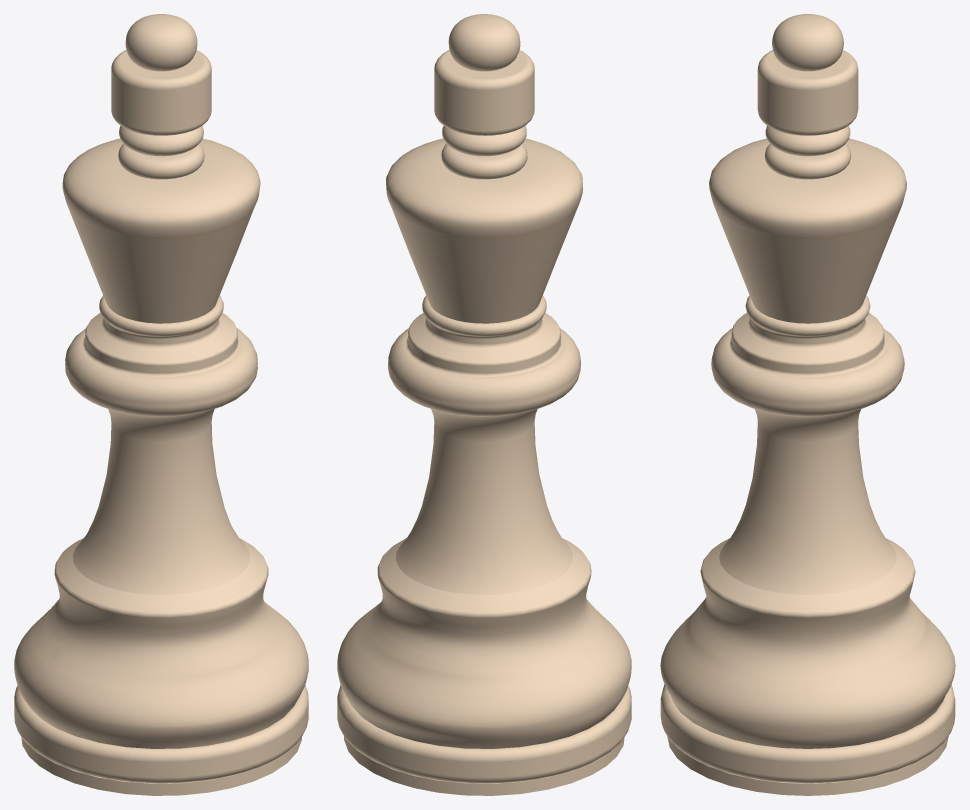
Rendered from KingSilver.fbx.
3 renders of one model, left to right at view 1: azimuth 30°, elevation 25°; view 2: azimuth 150°, elevation 25°; view 3: azimuth 270°, elevation 25°, orthographic.
Parts seen in each view (by area): view 1: Король; view 2: Король; view 3: Король.
Part boxes in pixels (<box>): Король: <box>14,14,308,795</box>; Король: <box>337,14,631,795</box>; Король: <box>660,14,955,795</box>.
Bounding box in the file's own units: 2.2 × 5.9 × 2.2.
